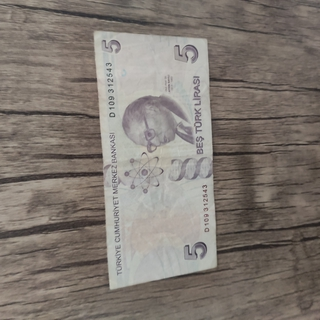5TLBack: (92, 29, 219, 292)
